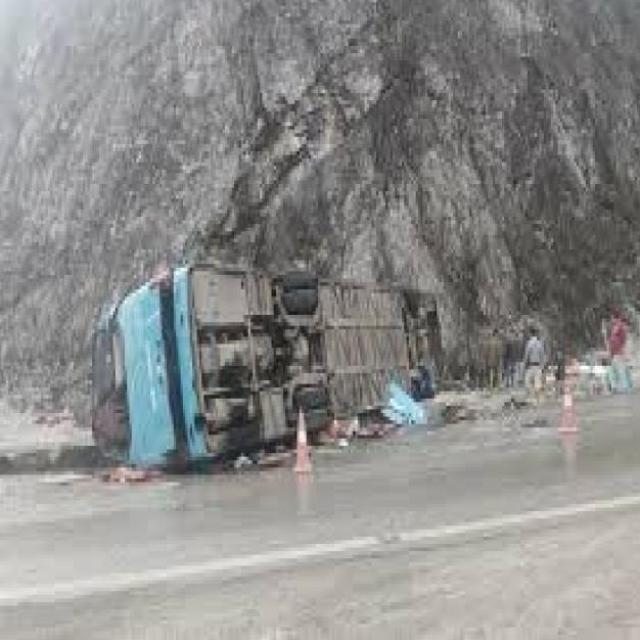accident: (73, 246, 451, 486)
